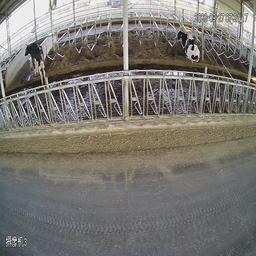cow: (24, 43, 50, 86), (176, 27, 202, 63)
